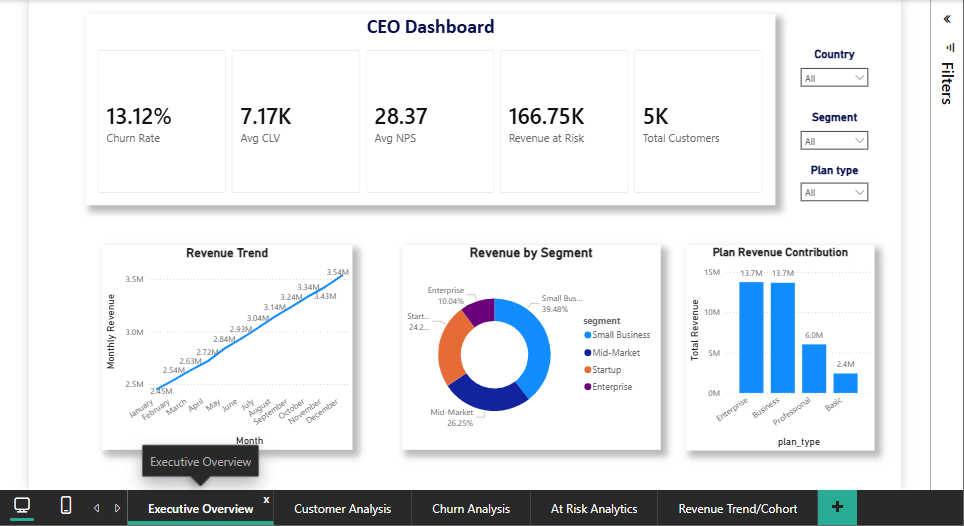

The page's visual inventory and layout, read from the dashboard file:
{"tool":"powerbi","page":{"name":"Executive Overview","canvas":[1280,720],"ordinal":0},"visuals":[{"type":"cardVisual","title":"CEO Dashboard","fields":{"Data":["saas_analytics customers.Churn Rate","saas_analytics customers.Avg CLV","saas_analytics customers.Avg NPS","saas_analytics at_risk_customers.Revenue at Risk","saas_analytics customers.Total Customers"]},"box":[84,20.2,1012.9,280.5],"z":0},{"type":"lineChart","title":"Revenue Trend","fields":{"Category":["saas_analytics monthly_revenue.revenue_month.Variation.Date Hierarchy.Month"],"Y":["saas_analytics monthly_revenue.Monthly Revenue"]},"box":[107.5,359.5,367.9,300.7],"z":1000},{"type":"donutChart","title":"Revenue by Segment","fields":{"Category":["saas_analytics customers.segment"],"Y":["saas_analytics customers.Total Revenue"]},"box":[547.6,359.5,379.6,300.7],"z":2000},{"type":"columnChart","title":"Plan Revenue Contribution","fields":{"Category":["saas_analytics customers.plan_type"],"Y":["saas_analytics customers.Total Revenue"]},"box":[965.9,359.5,277.2,302.4],"z":3000},{"type":"slicer","title":"Country","fields":{"Values":["saas_analytics customers.country"]},"box":[1123.8,68.9,119.3,92.4],"z":4000},{"type":"slicer","title":"Segment","fields":{"Values":["saas_analytics customers.segment"]},"box":[1123.8,161.3,119.3,75.6],"z":5000},{"type":"slicer","title":"Plan type","fields":{"Values":["saas_analytics customers.plan_type"]},"box":[1123.8,240.2,119.3,60.5],"z":6000}]}

Visuals, with their boxes on the page's 1280x720 design canvas (x1, y1, x2, y2). These are canvas units, not pixel positions in the 964x526 screenshot, which may show the page scaled, cropped or inside an application window:
"CEO Dashboard" cardVisual: locate(84, 20, 1097, 301)
"Revenue Trend" lineChart: locate(108, 360, 475, 660)
"Revenue by Segment" donutChart: locate(548, 360, 927, 660)
"Plan Revenue Contribution" columnChart: locate(966, 360, 1243, 662)
"Country" slicer: locate(1124, 69, 1243, 161)
"Segment" slicer: locate(1124, 161, 1243, 237)
"Plan type" slicer: locate(1124, 240, 1243, 301)
